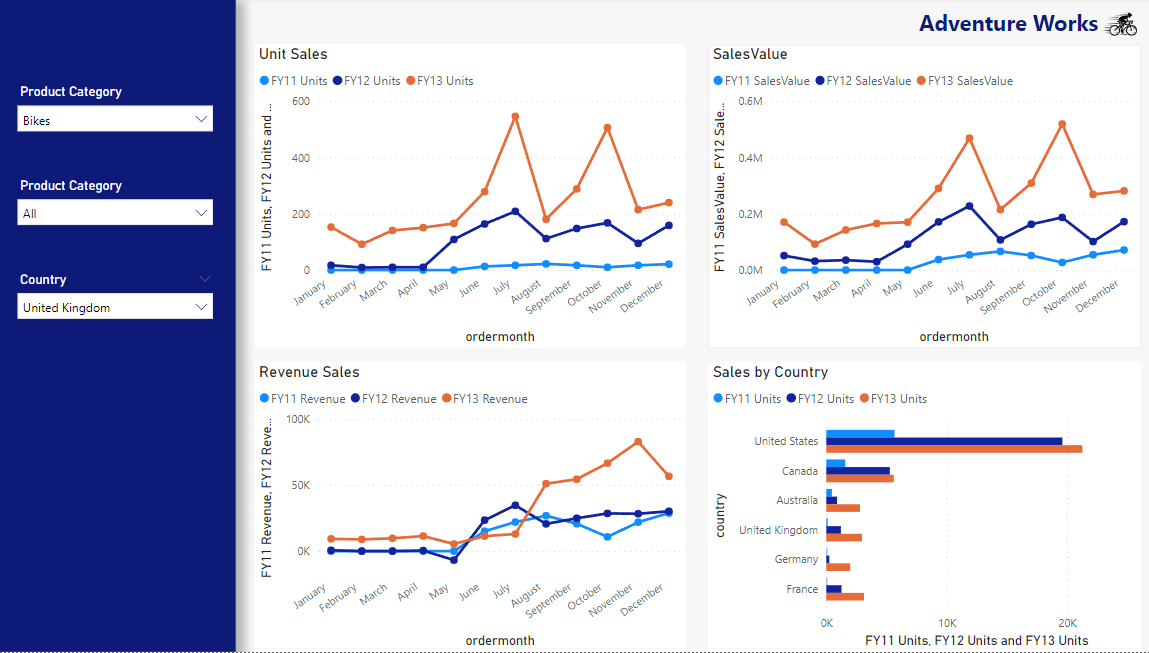

What the dashboard file says about the page in this screenshot:
{"tool":"powerbi","page":{"name":"Page 1","canvas":[1280,720],"ordinal":0},"visuals":[{"type":"shape","box":[9.6,0,263.7,719.7],"z":0},{"type":"lineChart","title":"Unit Sales","fields":{"Category":["Months.ordermonth"],"Y":["Sum(Sales Data.FY11Units)","Sum(Sales Data.FY12Units)","Sum(Sales Data.FY13Units)"]},"box":[293.9,52.2,473.8,333.7],"z":1000},{"type":"lineChart","title":"SalesValue","fields":{"Category":["Months.ordermonth"],"Y":["Sum(Sales Data.FY11SalesValue)","Sum(Sales Data.FY12SalesValue)","Sum(Sales Data.FY13SalesValue)"]},"box":[792.4,52.2,475.2,333.7],"z":1001},{"type":"lineChart","title":"Revenue Sales","fields":{"Category":["Months.ordermonth"],"Y":["Sum(Sales Data.FY11Revenue)","Sum(Sales Data.FY12Revenue)","Sum(Sales Data.FY13Revenue)"]},"box":[293.9,401,473.8,318.6],"z":1002},{"type":"clusteredBarChart","title":"Sales by Country","fields":{"Y":["Sum(Sales Data.FY11Units)","Sum(Sales Data.FY12Units)","Sum(Sales Data.FY13Units)"],"Category":["Sales Data.country"]},"box":[792.4,401,475.2,318.6],"z":1003},{"type":"slicer","fields":{"Values":["Sales Data.ProductCategory"]},"box":[23.3,90.6,234.8,89.3],"z":1007},{"type":"slicer","fields":{"Values":["Sales Data.productname"]},"box":[23.3,193.6,234.8,89.3],"z":1008},{"type":"slicer","fields":{"Values":["Sales Data.country"]},"box":[23.3,296.7,234.8,89.3],"z":1009},{"type":"textbox","box":[1019,7,234,45],"z":1010},{"type":"image","box":[1209,0,71,59],"z":1011}]}

Visuals, with their boxes in screenshot pixels (x1, y1, x2, y2), scaled from the page's 1280x720 canvas onto the 1149x653 screenshot:
shape: bbox=[9, 0, 245, 652]
"Unit Sales" lineChart: bbox=[264, 47, 689, 350]
"SalesValue" lineChart: bbox=[711, 47, 1138, 350]
"Revenue Sales" lineChart: bbox=[264, 364, 689, 652]
"Sales by Country" clusteredBarChart: bbox=[711, 364, 1138, 652]
slicer - Sales Data.ProductCategory: bbox=[21, 82, 232, 163]
slicer - Sales Data.productname: bbox=[21, 176, 232, 257]
slicer - Sales Data.country: bbox=[21, 269, 232, 350]
textbox: bbox=[915, 6, 1125, 47]
image: bbox=[1085, 0, 1148, 54]
